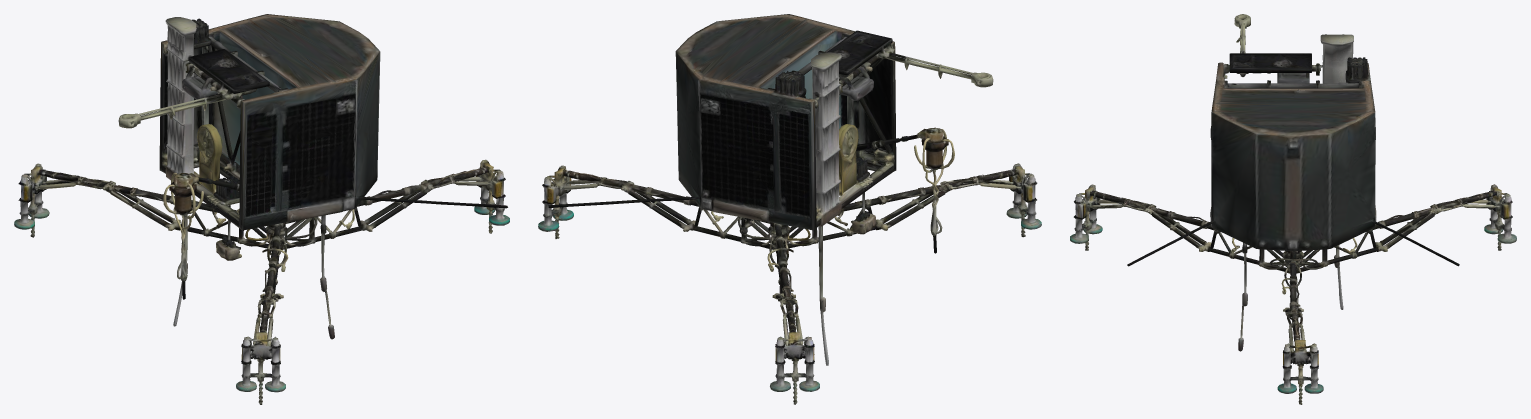
File: opera06.glb
3 views of the same model, side by side, from view 1: azimuth 30°, elevation 25°; view 2: azimuth 150°, elevation 25°; view 3: azimuth 270°, elevation 25° (orthographic). The views are drawn at different scales.
Parts seen in each view (by area): view 1: tripo_node_81833a28-e618-4cee-9072-0d50dfe434c1; view 2: tripo_node_81833a28-e618-4cee-9072-0d50dfe434c1; view 3: tripo_node_81833a28-e618-4cee-9072-0d50dfe434c1.
Boxes of the visible parts, x1,y1,x2,y2 form: tripo_node_81833a28-e618-4cee-9072-0d50dfe434c1: (14,14,509,404); tripo_node_81833a28-e618-4cee-9072-0d50dfe434c1: (538,14,1041,404); tripo_node_81833a28-e618-4cee-9072-0d50dfe434c1: (1070,14,1516,404).
Bounding box in the file's own units: 0.9659 × 0.6758 × 0.9989.
1 material, 1 textured.
